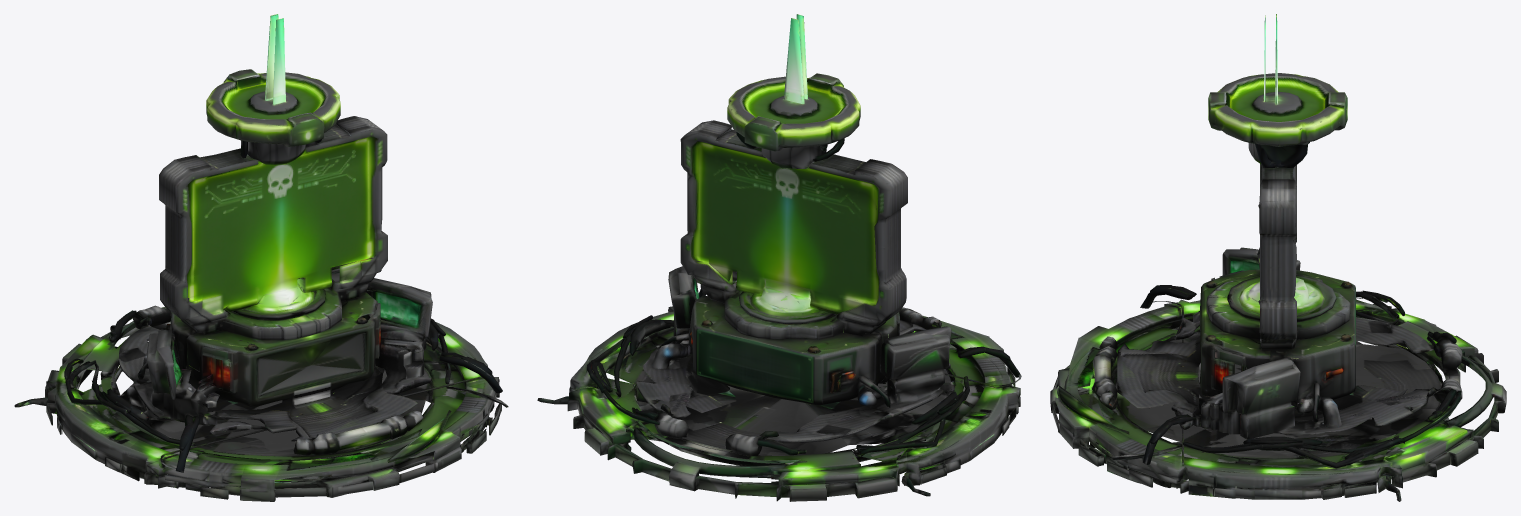
The picture shows the model from 3 angles, left to right: view 1: azimuth 30°, elevation 25°; view 2: azimuth 150°, elevation 25°; view 3: azimuth 270°, elevation 25°; orthographic projection.
Size of the model in its own units: 1.91 by 1.8 by 1.9.
Materials: 1 (1 with a texture image).
